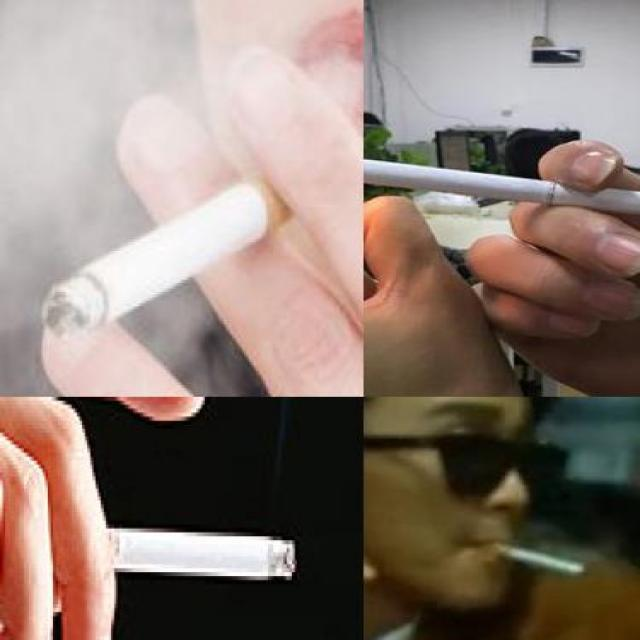smoking: (42, 150, 320, 340), (364, 154, 638, 220), (45, 522, 296, 581), (482, 538, 586, 578)
